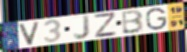3: (43, 18, 63, 44)
B: (121, 9, 145, 35)
G: (145, 7, 168, 31)
J: (72, 15, 92, 41)
V: (18, 21, 41, 47)
Z: (93, 12, 119, 39)
